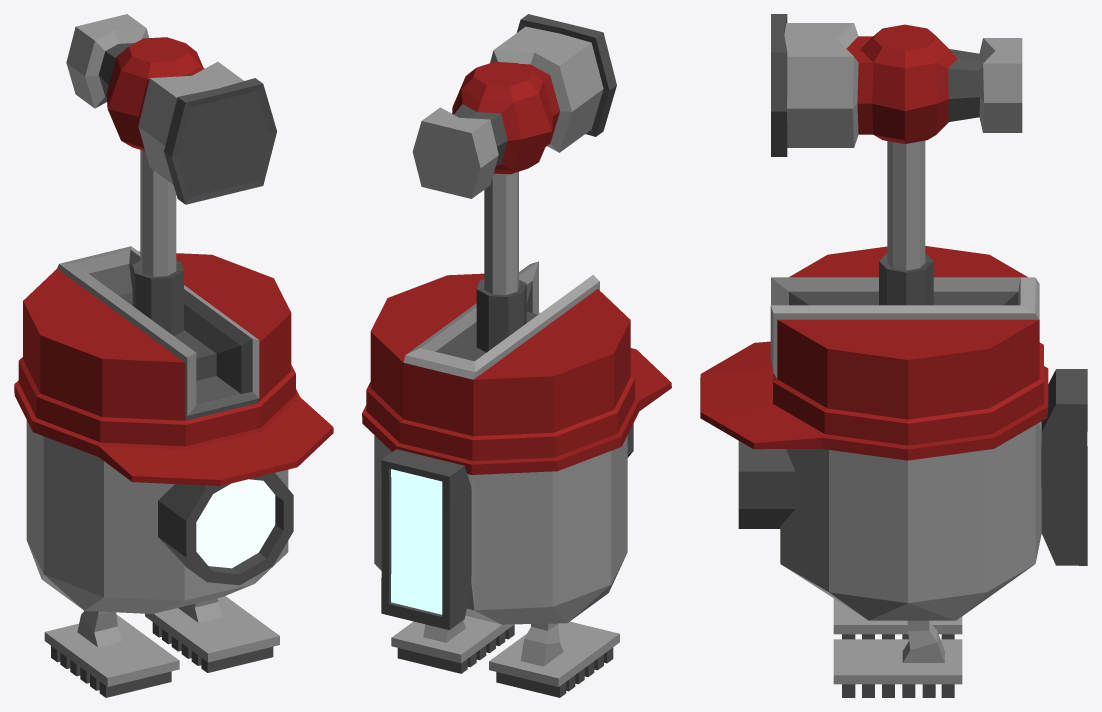
The model's file is builder.fbx.
The picture shows the model from 3 angles, left to right: view 1: azimuth 30°, elevation 25°; view 2: azimuth 150°, elevation 25°; view 3: azimuth 270°, elevation 25°; orthographic projection. The views are drawn at different scales.
Parts seen in each view (by area): view 1: builderBody, builderHammer, builderLegRight, builderLegLeft; view 2: builderBody, builderHammer, builderLegRight, builderLegLeft; view 3: builderBody, builderHammer, builderLegLeft, builderLegRight.
Boxes of the visible parts, x1=… form: builderBody: x1=14, y1=246, x2=333, y2=613; builderHammer: x1=66, y1=14, x2=276, y2=335; builderLegRight: x1=44, y1=611, x2=179, y2=697; builderLegLeft: x1=145, y1=596, x2=279, y2=672; builderBody: x1=362, y1=261, x2=671, y2=630; builderHammer: x1=412, y1=14, x2=616, y2=352; builderLegRight: x1=489, y1=621, x2=619, y2=697; builderLegLeft: x1=391, y1=615, x2=514, y2=673; builderBody: x1=700, y1=246, x2=1087, y2=620; builderHammer: x1=771, y1=14, x2=1022, y2=305; builderLegLeft: x1=833, y1=620, x2=962, y2=697; builderLegRight: x1=833, y1=598, x2=962, y2=639.
Bounding box in the file's own units: 208 × 486 × 274.
